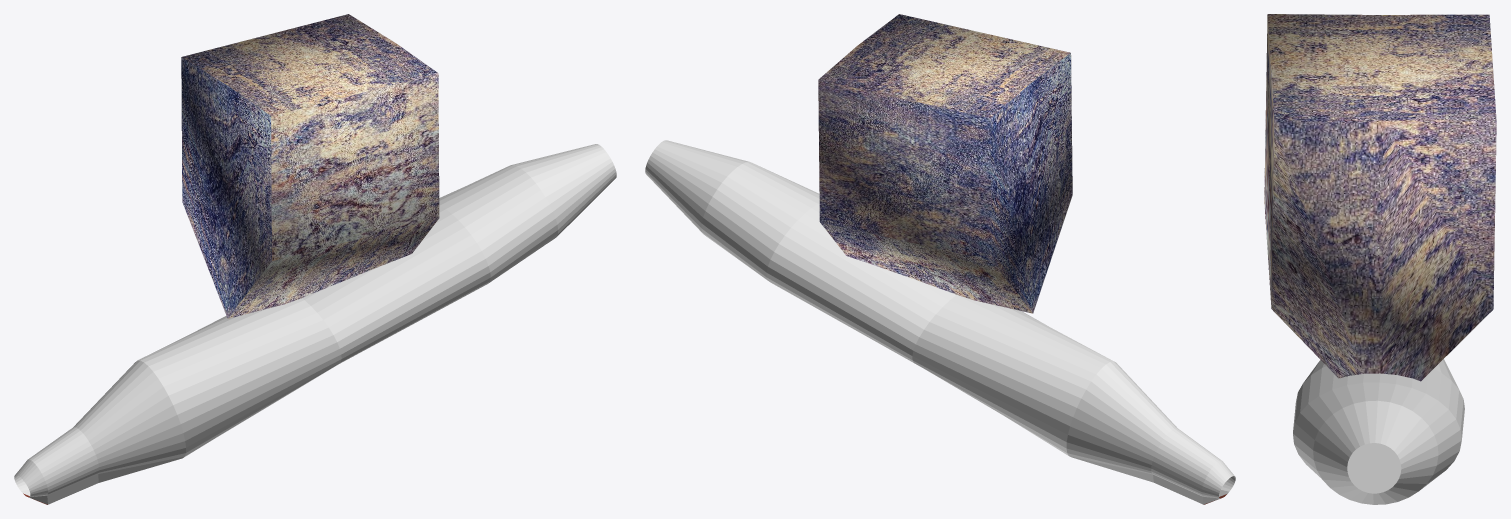
The picture shows the model from 3 angles, left to right: view 1: azimuth 30°, elevation 25°; view 2: azimuth 150°, elevation 25°; view 3: azimuth 270°, elevation 25°; orthographic projection. The views are drawn at different scales.
Visible parts, largest first — view 1: 立方体, 円柱; view 2: 立方体, 円柱; view 3: 立方体, 円柱.
Part boxes in pixels (x1,y1,x2,y2): 立方体: (181, 14, 439, 318); 円柱: (14, 144, 616, 504); 立方体: (818, 14, 1072, 313); 円柱: (645, 140, 1235, 504); 立方体: (1264, 14, 1496, 381); 円柱: (1293, 359, 1464, 504).
Bounding box in the file's own units: 63.21 × 38.87 × 16.72.
